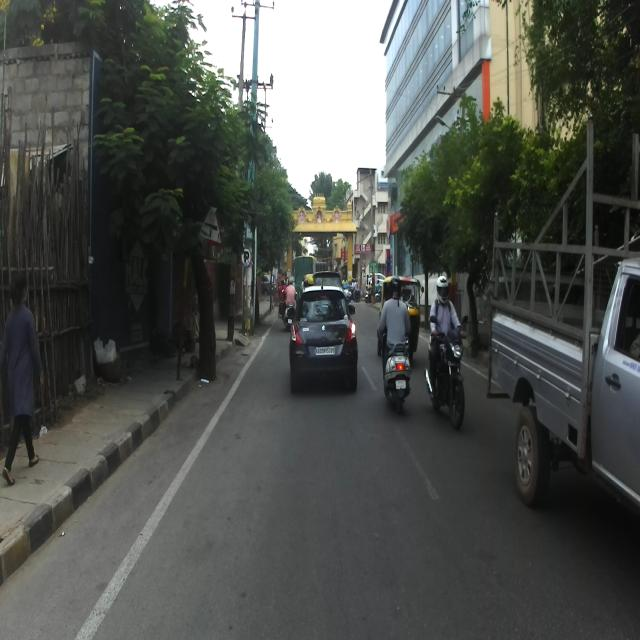car ahead at: (289, 275, 360, 390)
motorcycle ahead at: (427, 320, 471, 438), (378, 346, 416, 406)
person ahead at: (2, 275, 46, 484)
tree ahead at: (152, 167, 230, 386)
